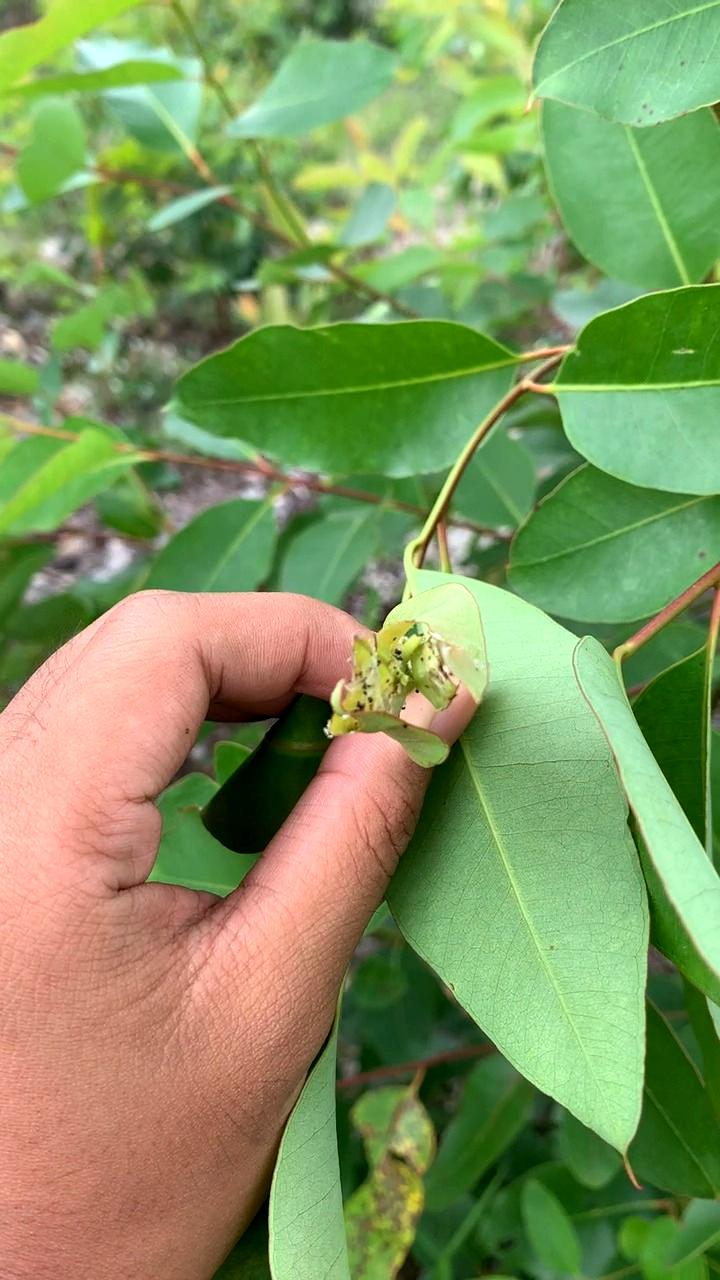Leaf Roller - Leaf: (318, 628, 481, 765)
